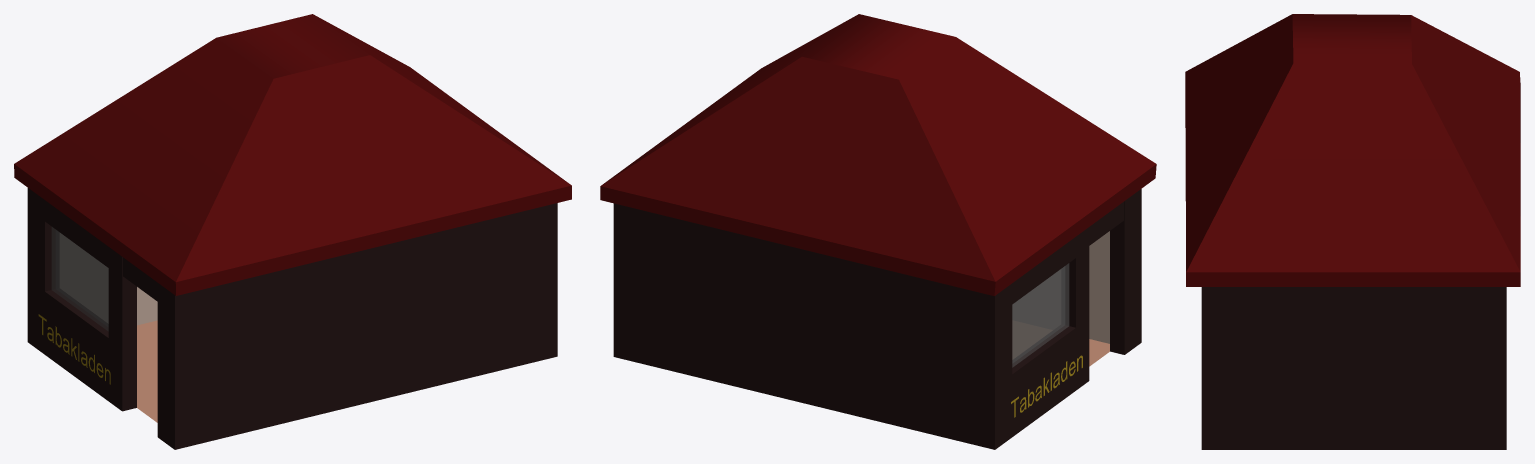
File: tabakladen.dae
3 views of the same model, side by side, from view 1: azimuth 30°, elevation 25°; view 2: azimuth 150°, elevation 25°; view 3: azimuth 270°, elevation 25° (orthographic). The views are drawn at different scales.
Parts seen in each view (by area): view 1: roof, house, window2, pCube2, TextPlus001; view 2: roof, house, window2, pCube2, TextPlus001; view 3: roof, house.
Part boxes in pixels (bbox=[...]): roof: bbox=[14, 14, 571, 295]; house: bbox=[27, 188, 557, 449]; window2: bbox=[51, 227, 108, 331]; pCube2: bbox=[123, 257, 157, 301]; TextPlus001: bbox=[38, 314, 110, 384]; roof: bbox=[600, 14, 1156, 296]; house: bbox=[613, 189, 1141, 449]; window2: bbox=[1012, 263, 1069, 367]; pCube2: bbox=[1089, 202, 1123, 245]; TextPlus001: bbox=[1011, 355, 1082, 417]; roof: bbox=[1185, 14, 1520, 286]; house: bbox=[1201, 287, 1506, 449].
Bounding box in the file's own units: 245 × 173 × 179.
